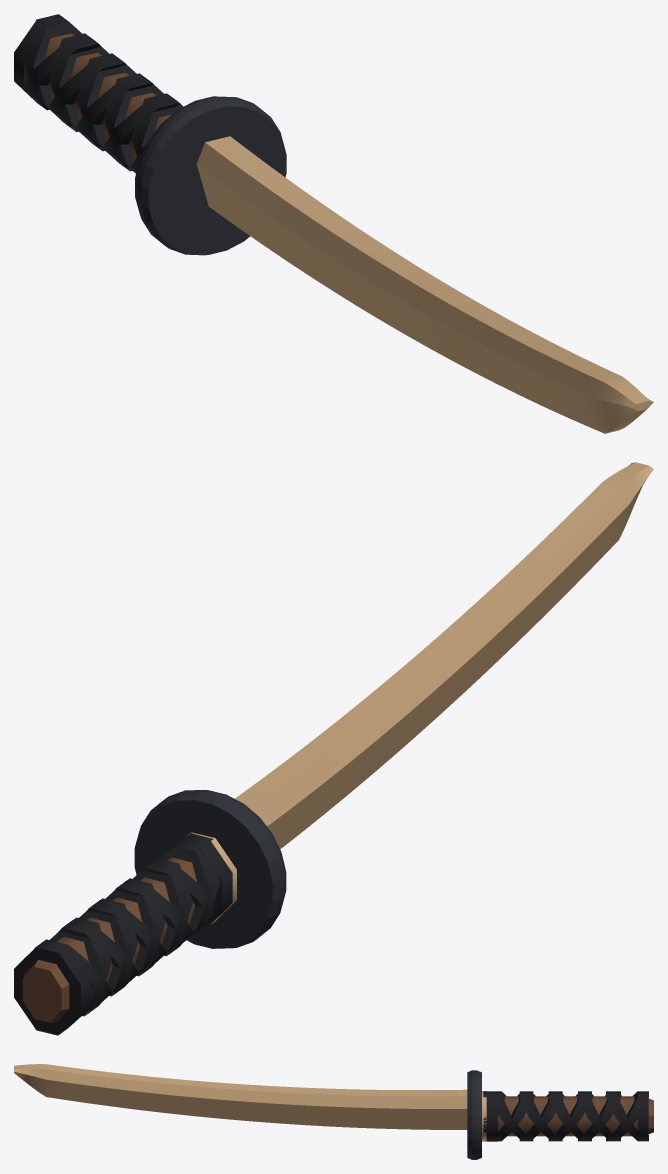
The model's file is w_katana@katana_bokken.glb.
The picture shows the model from 3 angles, top to bottom: view 1: azimuth 30°, elevation 25°; view 2: azimuth 150°, elevation 25°; view 3: azimuth 270°, elevation 25°; orthographic projection. The views are drawn at different scales.
Visible parts, largest first — view 1: kat_blade_wzA__wood__pc8a57a, kat_guard_wzN__dark__p2b2e35, kat_trims_wzN__cord__p1f2024, kat_tsuka_wzA__walnut__p6b4a33; view 2: kat_blade_wzA__wood__pc8a57a, kat_trims_wzN__cord__p1f2024, kat_guard_wzN__dark__p2b2e35, kat_tsuka_wzA__walnut__p6b4a33; view 3: kat_blade_wzA__wood__pc8a57a, kat_trims_wzN__cord__p1f2024, kat_tsuka_wzA__walnut__p6b4a33, kat_guard_wzN__dark__p2b2e35, kat_guard_wzN__wood__pc8a57a.
Part boxes in pixels (box(x1,y1,x2,y2)): kat_blade_wzA__wood__pc8a57a: box(196, 136, 653, 433); kat_guard_wzN__dark__p2b2e35: box(135, 96, 286, 255); kat_trims_wzN__cord__p1f2024: box(14, 14, 183, 173); kat_tsuka_wzA__walnut__p6b4a33: box(44, 33, 171, 159); kat_blade_wzA__wood__pc8a57a: box(235, 462, 653, 849); kat_trims_wzN__cord__p1f2024: box(14, 833, 235, 1035); kat_guard_wzN__dark__p2b2e35: box(134, 789, 286, 948); kat_tsuka_wzA__walnut__p6b4a33: box(23, 857, 196, 1022); kat_blade_wzA__wood__pc8a57a: box(14, 1064, 467, 1129); kat_trims_wzN__cord__p1f2024: box(483, 1091, 648, 1141); kat_tsuka_wzA__walnut__p6b4a33: box(498, 1096, 653, 1136); kat_guard_wzN__dark__p2b2e35: box(467, 1070, 481, 1159); kat_guard_wzN__wood__pc8a57a: box(482, 1091, 486, 1141).
Size of the model in its own units: 0.1338 by 0.1478 by 0.9637.
